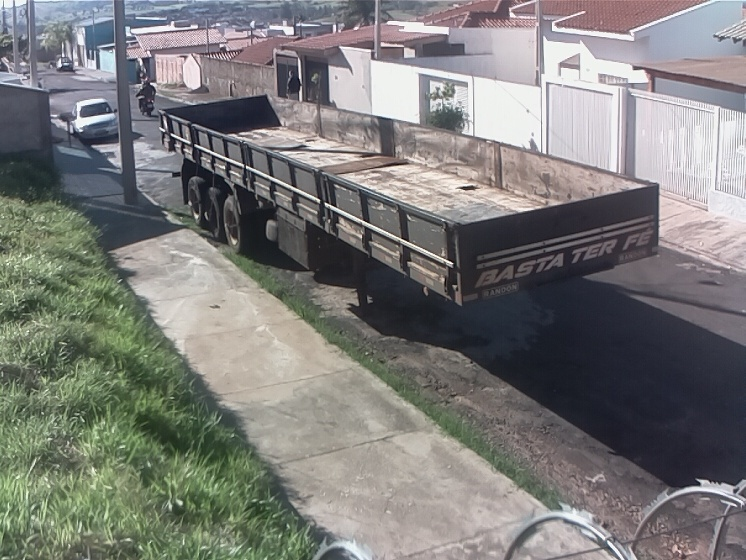person: (285, 68, 303, 102), (137, 77, 156, 102)
